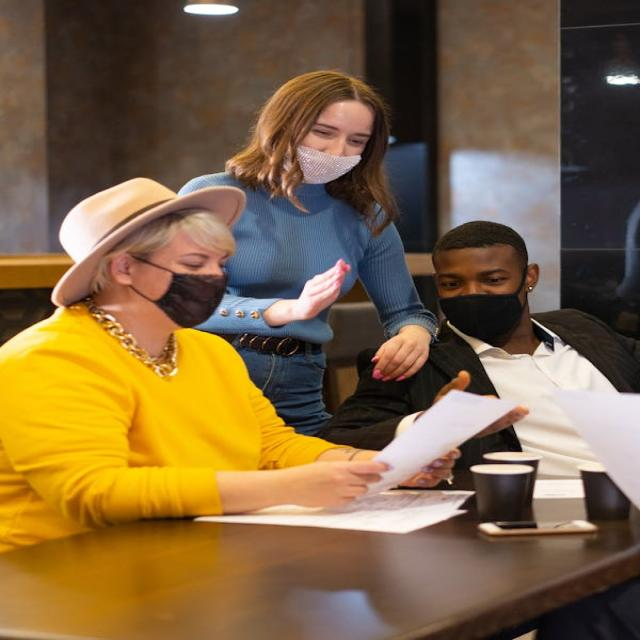mask: (116, 191, 256, 338), (274, 70, 391, 223), (444, 223, 541, 352)
